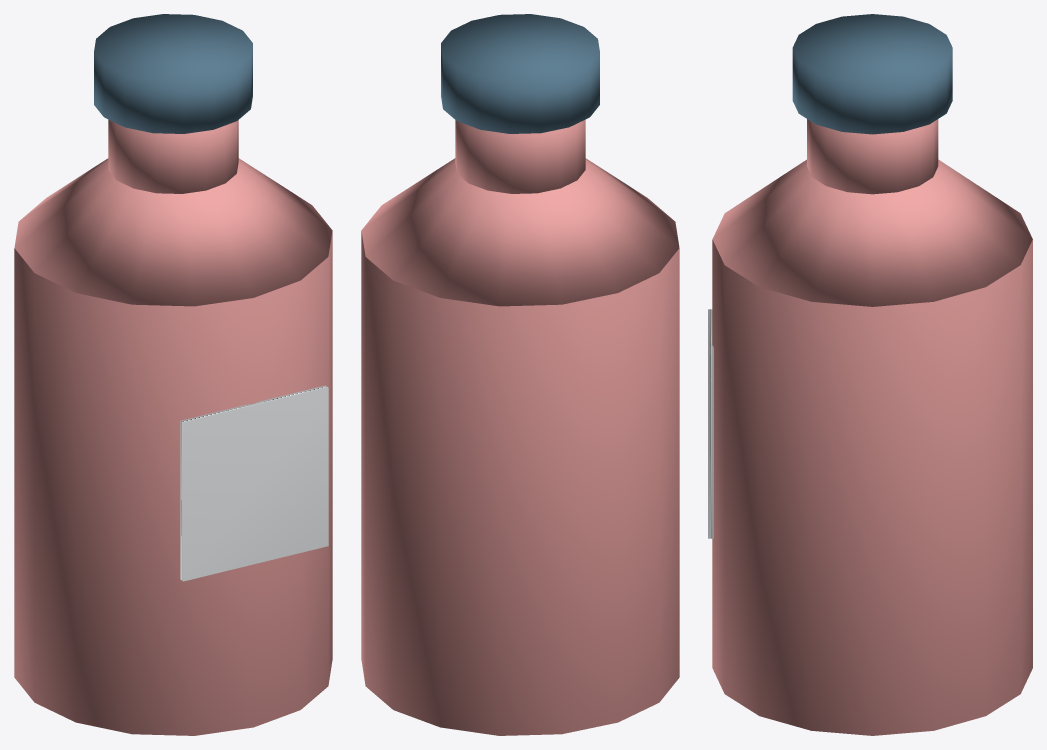
Rendered from acid-bottle.glb.
3 views of the same model, side by side, from view 1: azimuth 30°, elevation 25°; view 2: azimuth 150°, elevation 25°; view 3: azimuth 270°, elevation 25° (orthographic).
Visible parts, largest first — view 1: bottle_body, shoulder, blank_label, cap, neck; view 2: bottle_body, shoulder, cap, neck; view 3: bottle_body, shoulder, cap, neck, blank_label.
Part boxes in pixels (x1,y1,x2,y2): bottle_body: (14, 231, 332, 735); shoulder: (14, 158, 332, 306); blank_label: (180, 385, 328, 581); cap: (94, 14, 252, 133); neck: (108, 119, 238, 193); bottle_body: (361, 231, 679, 735); shoulder: (361, 158, 679, 306); cap: (441, 14, 599, 133); neck: (455, 119, 585, 193); bottle_body: (712, 239, 1032, 735); shoulder: (712, 159, 1032, 306); cap: (792, 14, 952, 134); neck: (807, 119, 938, 194); blank_label: (708, 309, 713, 538).
Bounding box in the file's own units: 0.44 × 0.94 × 0.446.
